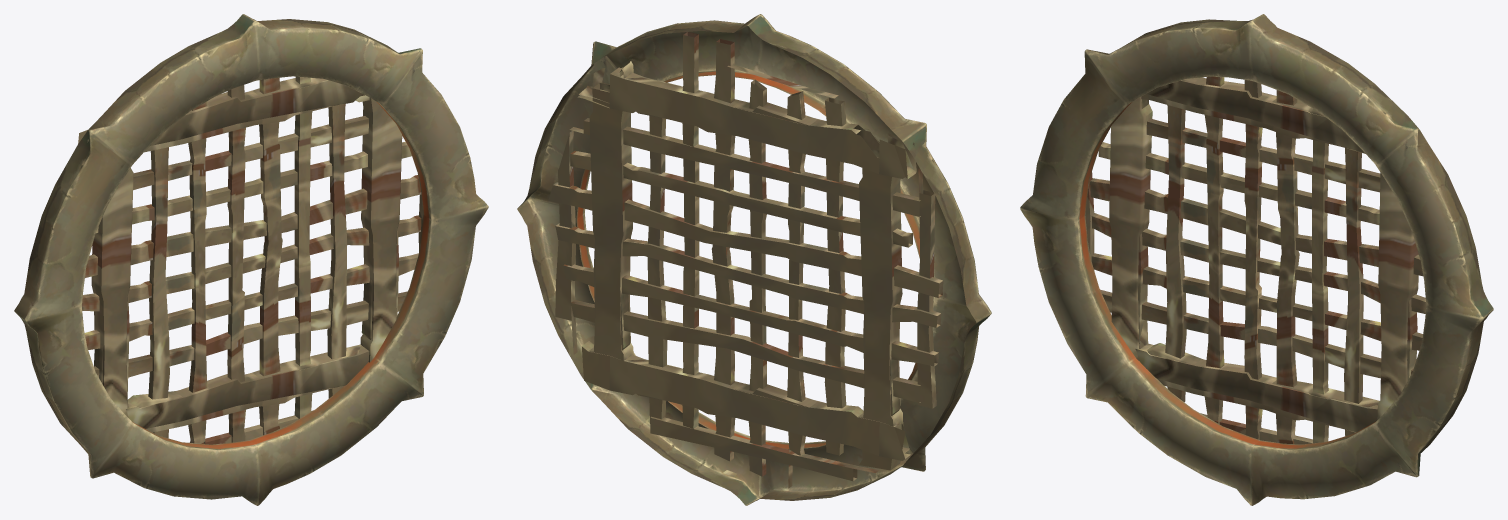
File: Grate_Round_B.obj
3 views of the same model, side by side, from view 1: azimuth 30°, elevation 25°; view 2: azimuth 150°, elevation 25°; view 3: azimuth 330°, elevation 25° (orthographic).
Visible parts, largest first — view 1: Dn_HL_Grate_Round_B; view 2: Dn_HL_Grate_Round_B; view 3: Dn_HL_Grate_Round_B.
Boxes of the visible parts, left/top/right/bottom form: Dn_HL_Grate_Round_B: left=14, top=14, right=488, bottom=505; Dn_HL_Grate_Round_B: left=517, top=14, right=991, bottom=505; Dn_HL_Grate_Round_B: left=1020, top=14, right=1493, bottom=505.
Bounding box in the file's own units: 9.02 × 9.02 × 0.6189.
